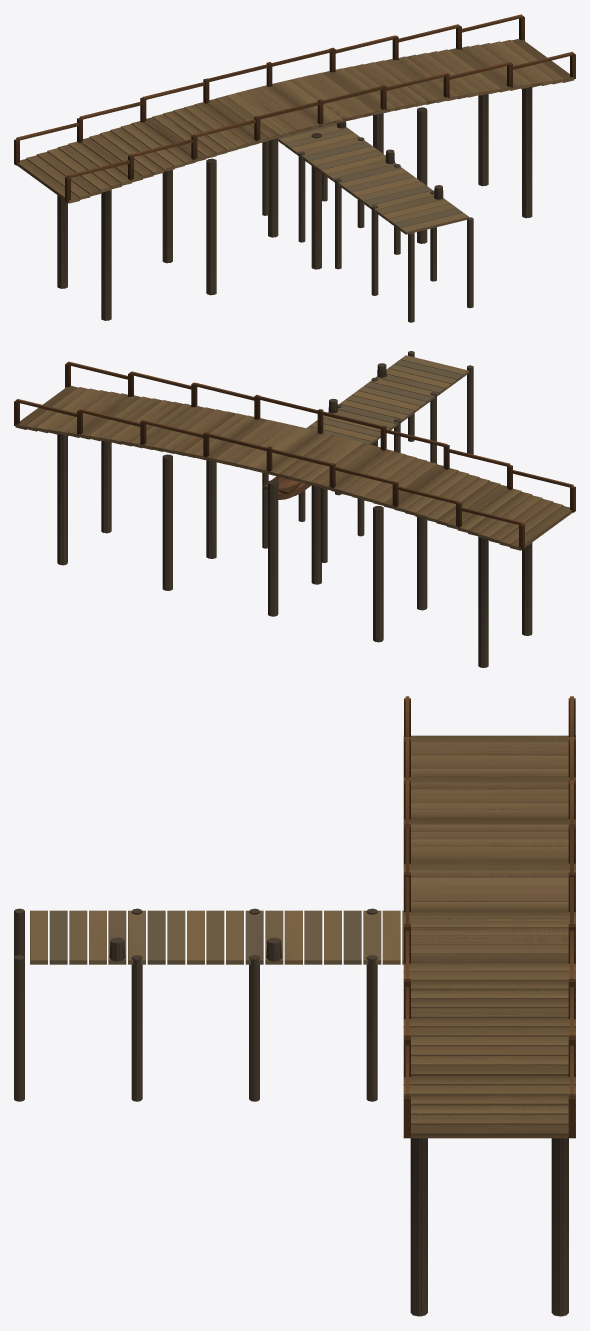
Rendered from water.glb.
3 renders of one model, top to bottom at view 1: azimuth 30°, elevation 25°; view 2: azimuth 150°, elevation 25°; view 3: azimuth 270°, elevation 25°, orthographic. The views are drawn at different scales.
Visible parts, largest first — view 1: bridge, bridge__lod, dock, dock__lod; view 2: bridge, bridge__lod, dock, dock__lod, rowboat; view 3: bridge, bridge__lod, dock, dock__lod.
Part boxes in pixels (left/top/right/bottom): bridge: left=14, top=14, right=575, bottom=320; bridge__lod: left=14, top=14, right=575, bottom=320; dock: left=262, top=121, right=473, bottom=322; dock__lod: left=262, top=121, right=473, bottom=322; bridge: left=14, top=362, right=575, bottom=667; bridge__lod: left=14, top=361, right=575, bottom=667; dock: left=262, top=351, right=473, bottom=562; dock__lod: left=267, top=353, right=472, bottom=562; rowboat: left=264, top=476, right=311, bottom=499; bridge: left=404, top=696, right=575, bottom=1316; bridge__lod: left=403, top=696, right=575, bottom=1316; dock: left=14, top=908, right=403, bottom=1101; dock__lod: left=15, top=908, right=403, bottom=1101.
Size of the model in its own units: 24.18 by 7.7 by 14.34.
